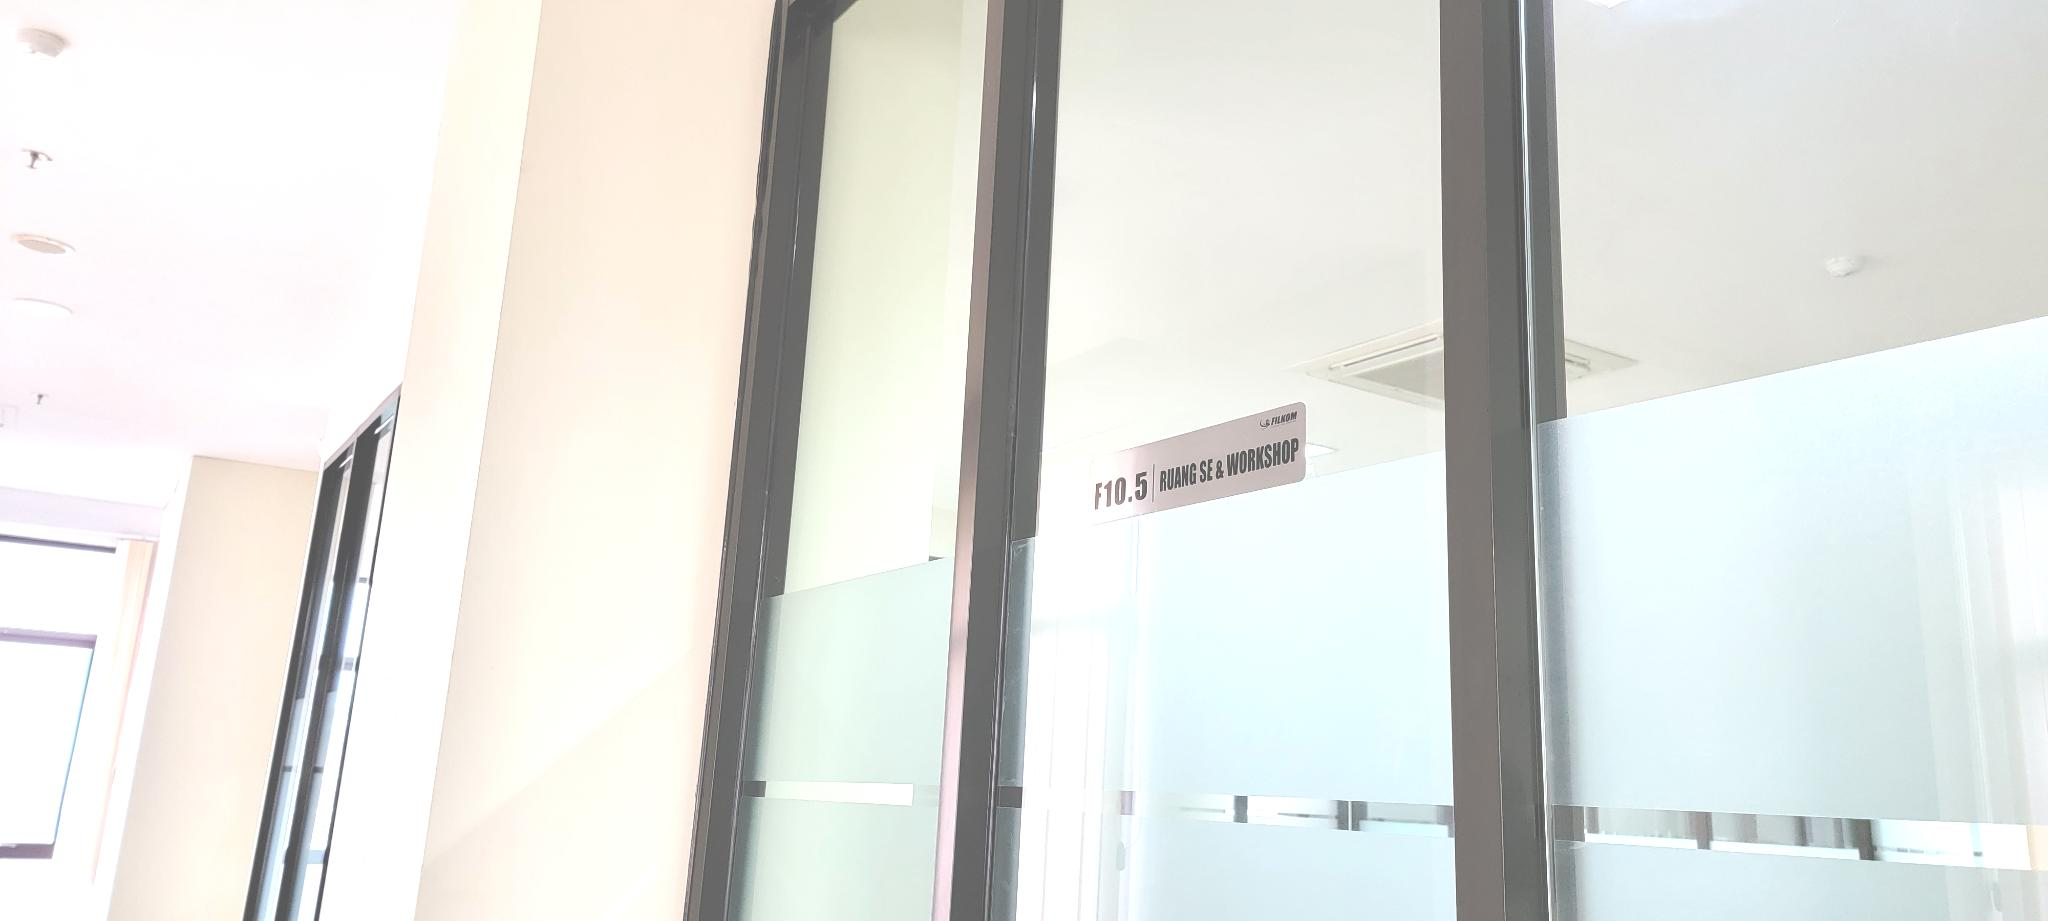plate: (1087, 400, 1307, 530)
